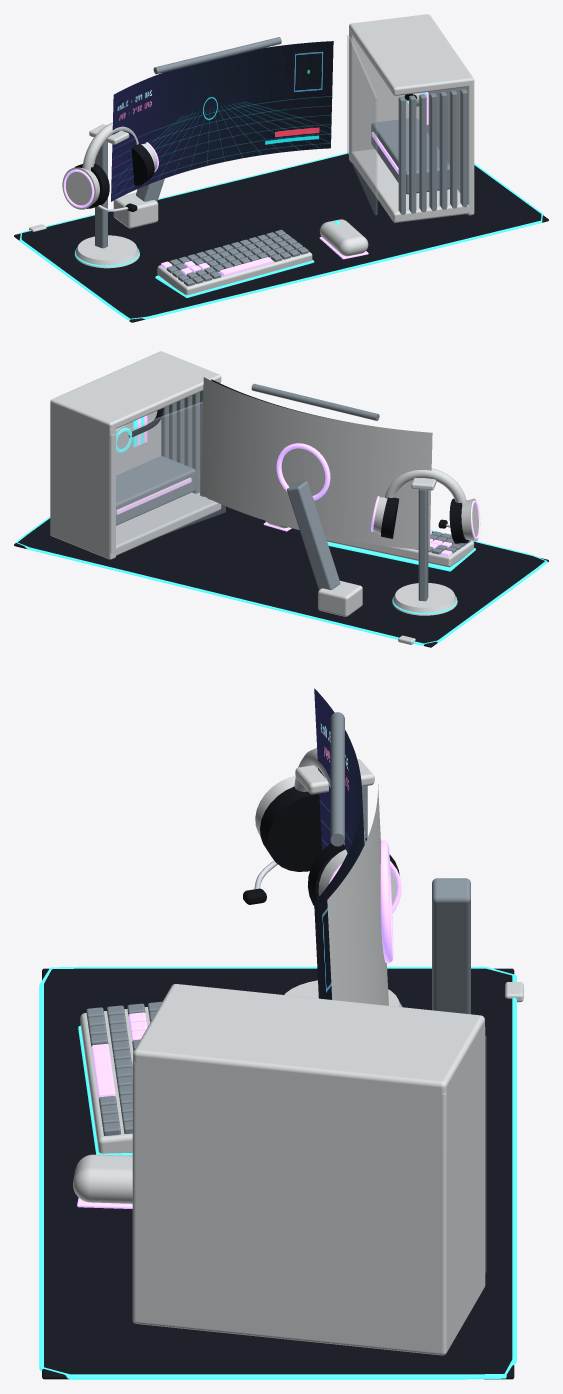
Rendered from atelier-gaming-loadout-battlestation-arctic.glb.
The picture shows the model from 3 angles, top to bottom: view 1: azimuth 30°, elevation 25°; view 2: azimuth 150°, elevation 25°; view 3: azimuth 270°, elevation 25°; orthographic projection. The views are drawn at different scales.
Parts seen in each view (by area): view 1: object 1, Gaming curved display, object 11, object 32, object 12, object 10, object 2, object 28, object 13, object 33, object 103, object 100 (+17 smaller); view 2: object 1, object 6, object 32, object 12, object 11, object 10, object 28, object 5, object 2, object 13, object 103, object 33 (+15 smaller); view 3: object 13, object 1, object 11, object 12, object 6, object 2, Gaming curved display, object 5, object 108, object 10, object 100, object 33 (+5 smaller).
Boxes of the visible parts, x1,y1,x2,y2 form: object 1: [14, 153, 548, 322]; Gaming curved display: [111, 41, 333, 201]; object 11: [349, 14, 474, 95]; object 32: [347, 35, 377, 214]; object 12: [349, 30, 419, 162]; object 10: [349, 149, 472, 222]; object 2: [19, 152, 543, 320]; object 28: [371, 117, 449, 194]; object 13: [426, 84, 474, 215]; object 33: [157, 234, 312, 295]; object 103: [74, 235, 139, 268]; object 100: [320, 219, 368, 256]; object 1: [14, 504, 548, 647]; object 6: [201, 377, 432, 550]; object 32: [110, 401, 225, 553]; object 12: [52, 407, 115, 559]; object 11: [50, 351, 221, 429]; object 10: [51, 492, 221, 556]; object 28: [116, 456, 195, 525]; object 5: [287, 481, 340, 589]; object 2: [15, 516, 547, 645]; object 13: [50, 405, 161, 536]; object 103: [392, 583, 457, 615]; object 33: [325, 532, 474, 567]; object 13: [132, 1061, 448, 1355]; object 1: [42, 968, 514, 1379]; object 11: [133, 984, 484, 1095]; object 12: [432, 1027, 485, 1355]; object 6: [327, 784, 388, 1005]; object 2: [39, 966, 516, 1379]; Gaming curved display: [314, 688, 364, 999]; object 5: [432, 878, 470, 1014]; object 108: [260, 786, 321, 871]; object 10: [136, 1271, 484, 1349]; object 100: [73, 1154, 132, 1203]; object 33: [80, 1007, 149, 1153].
Size of the model in its own units: 0.9452 by 0.3823 by 0.4716.
Materials: 9 (1 with a texture image).
